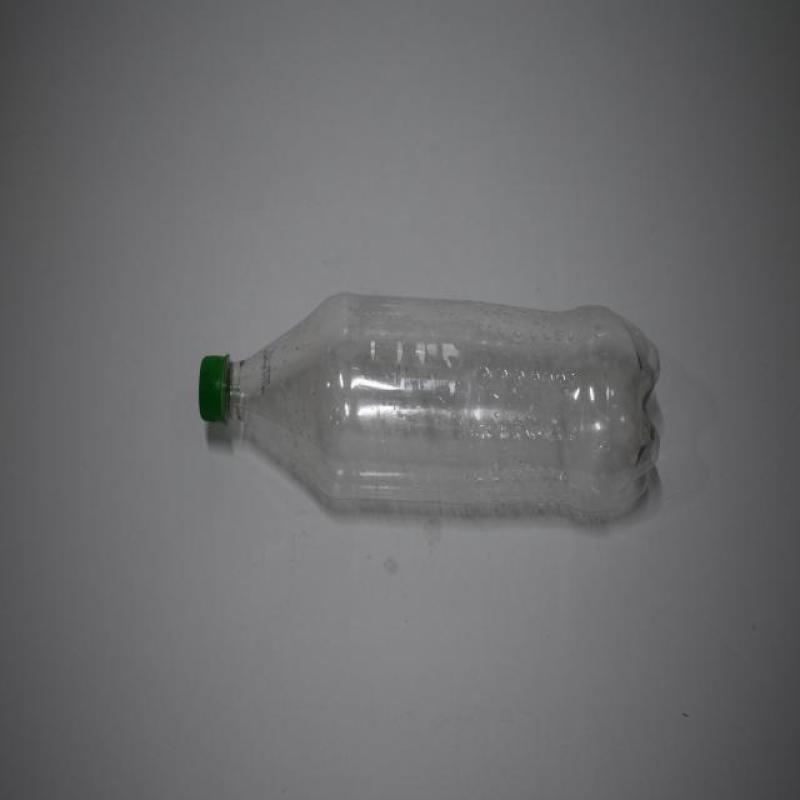botella: (197, 292, 658, 527)
